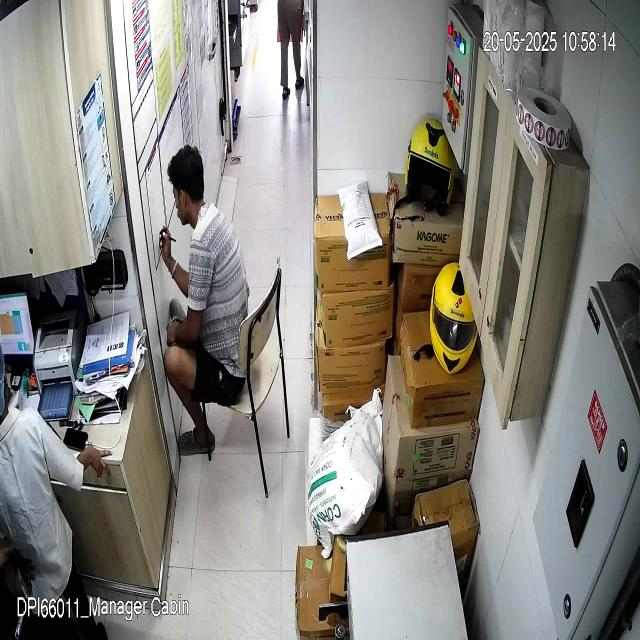helmet: (429, 262, 477, 373), (404, 113, 455, 213)
no_helmet: (168, 143, 203, 230)
